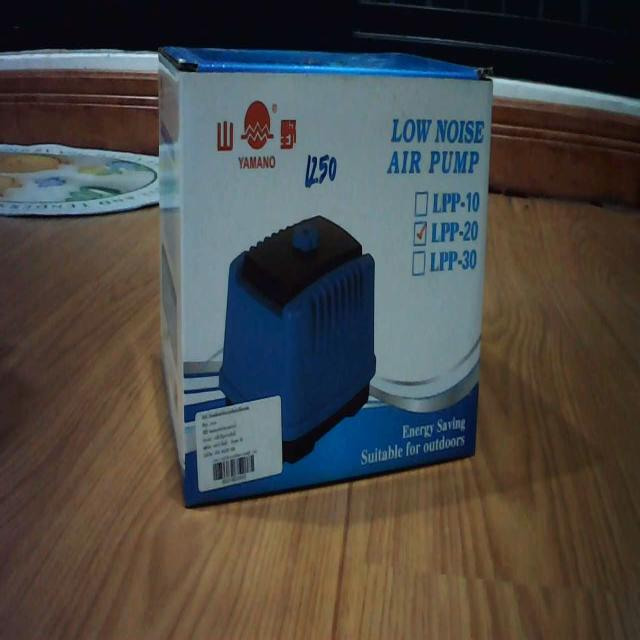YAMANO_LPP_20: (144, 16, 512, 535)
